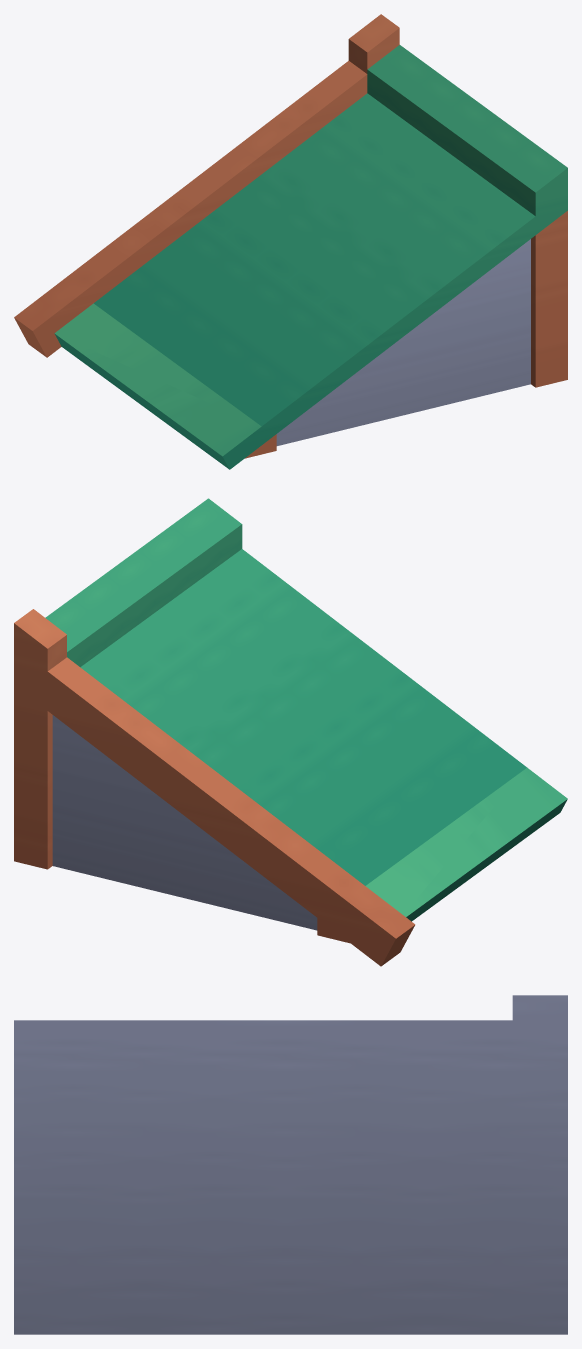
Rendered from roofLeft.fbx.
The picture shows the model from 3 angles, top to bottom: view 1: azimuth 30°, elevation 25°; view 2: azimuth 150°, elevation 25°; view 3: azimuth 270°, elevation 25°; orthographic projection. The views are drawn at different scales.
Parts seen in each view (by area): view 1: roofLeft; view 2: roofLeft; view 3: roofLeft.
Boxes of the visible parts, box(x1,y1,x2,y2) form: roofLeft: box(14, 14, 567, 469); roofLeft: box(14, 498, 567, 966); roofLeft: box(14, 995, 567, 1334).
Bounding box in the file's own units: 1.13 × 1 × 0.7206.
